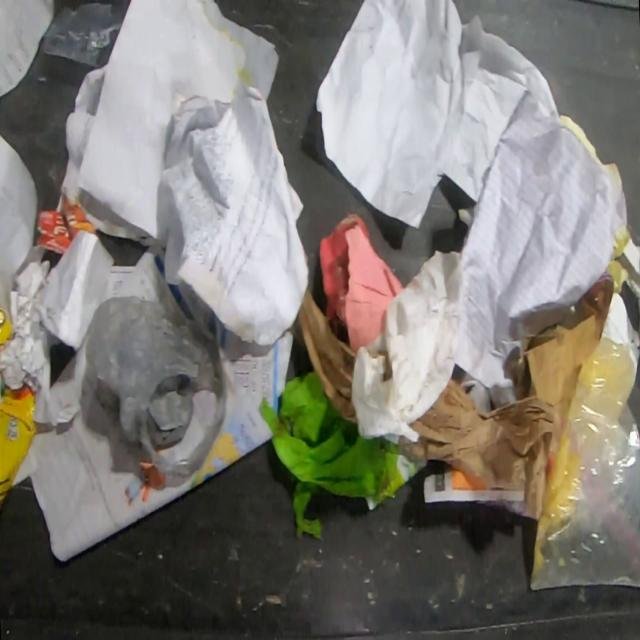cardboard: (518, 278, 613, 407), (0, 381, 38, 509), (32, 194, 99, 256), (0, 305, 14, 348)
soft_plastic: (79, 293, 228, 489), (528, 332, 640, 592), (39, 0, 130, 68), (559, 298, 583, 327)
